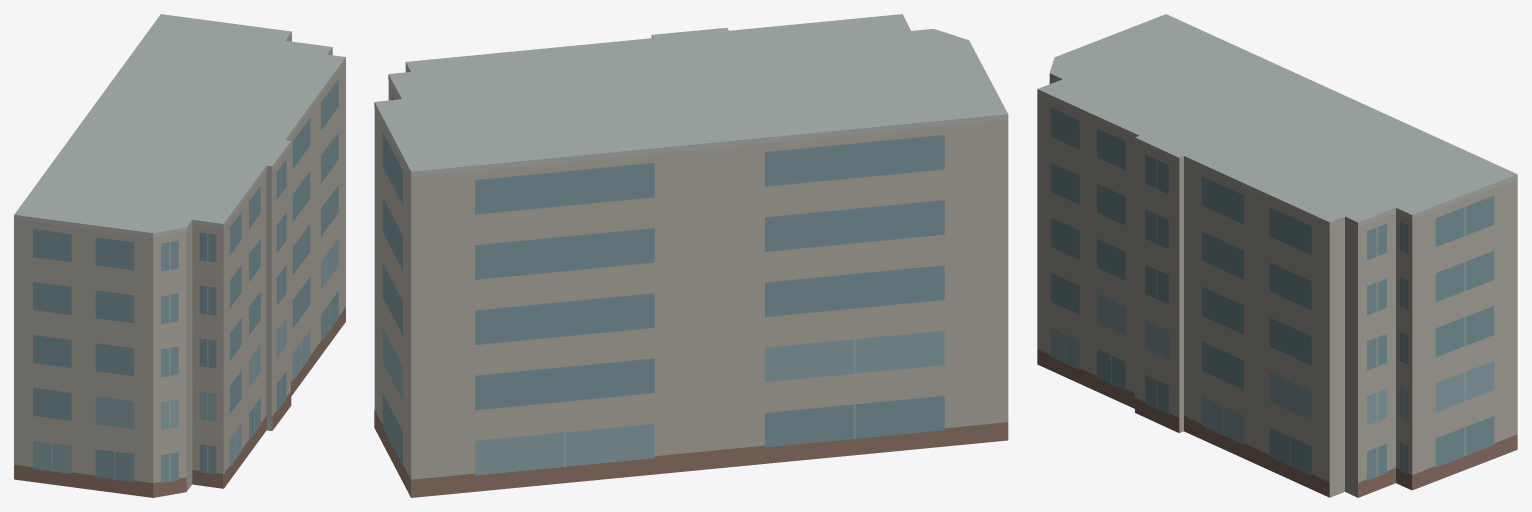
The model's file is survey-upis-32814429.glb.
3 views of the same model, side by side, from view 1: azimuth 30°, elevation 25°; view 2: azimuth 150°, elevation 25°; view 3: azimuth 270°, elevation 25° (orthographic). The views are drawn at different scales.
Visible parts, largest first — view 1: survey-upis-32814429.tmp; view 2: survey-upis-32814429.tmp; view 3: survey-upis-32814429.tmp.
Boxes of the visible parts, box(x1,y1,x2,y2) form: survey-upis-32814429.tmp: box(14, 14, 345, 497); survey-upis-32814429.tmp: box(374, 14, 1008, 497); survey-upis-32814429.tmp: box(1037, 14, 1517, 497).
Bounding box in the file's own units: 22.99 × 14.15 × 22.38.
